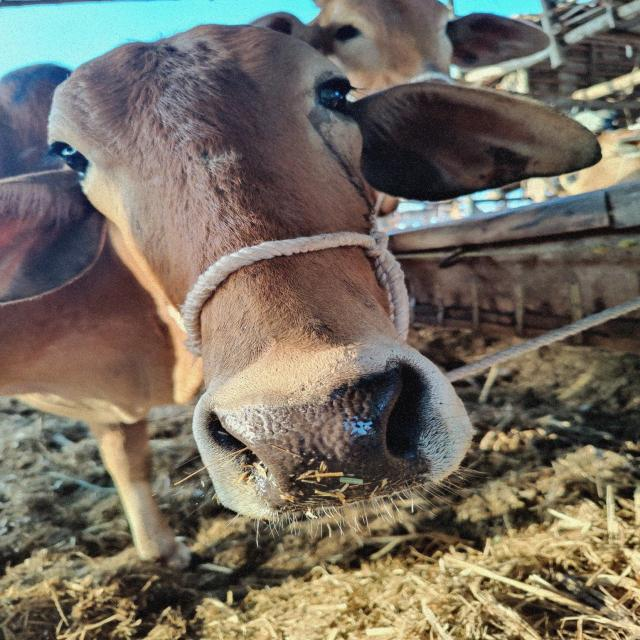muzzles: (201, 371, 456, 507)
